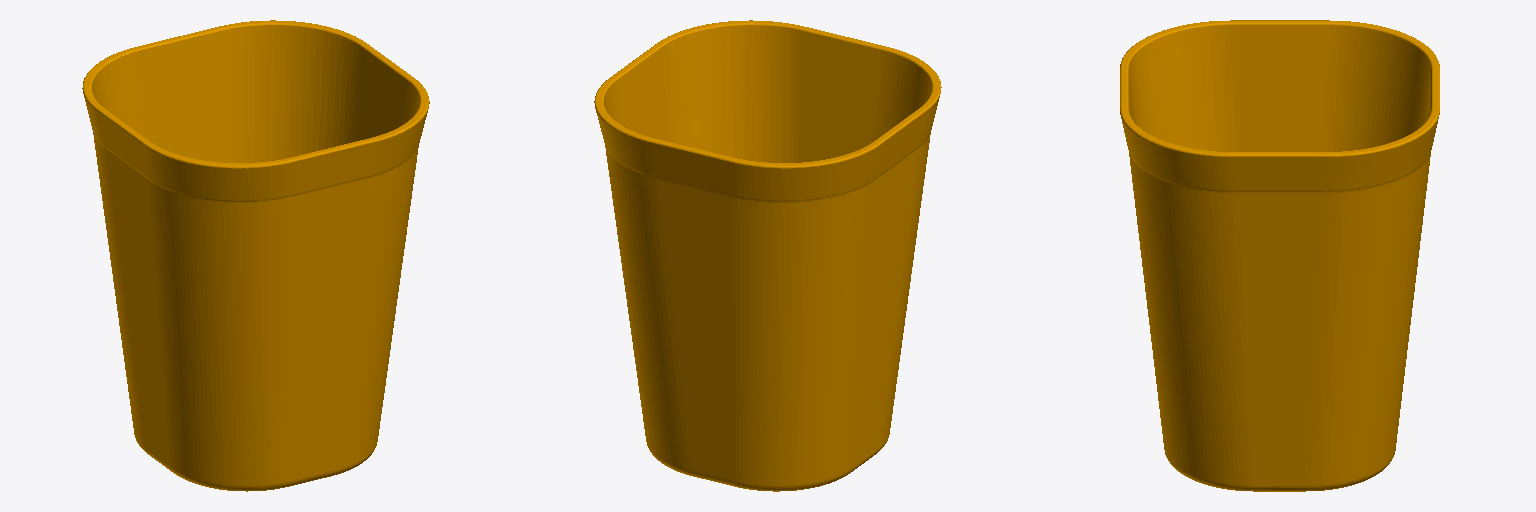
robot.urdf — cup:
<?xml version="1.0"?>
<robot name="cup">
  <link name="base_link">
    <visual>
      <origin xyz="0 0 0" rpy="0 0 0"/>
      <geometry>
        <mesh filename="package://so_arm101_description/meshes/cup/cup.stl" scale="0.001 0.001 0.001"/>
      </geometry>
    </visual>
    <collision>
      <origin xyz="0 0 0" rpy="0 0 0"/>
      <geometry>
        <mesh filename="package://so_arm101_description/meshes/cup/cup.stl" scale="0.001 0.001 0.001"/>
      </geometry>
    </collision>
    <inertial>
      <origin xyz="-7.06381e-07 6.25117e-07 0.0482337" rpy="0 0 0"/>
      <mass value="0.235049"/>
      <inertia ixx="0.000009" ixy="-0.000000" ixz="0.000000"
              iyy="0.000009" iyz="-0.000000" izz="0.000003"/>
    </inertial>
  </link>
</robot>

--- Render facts (derived) ---
3 views of the same robot in one strip: view 1: azimuth 30°, elevation 25°; view 2: azimuth 150°, elevation 25°; view 3: azimuth 270°, elevation 25° (orthographic).
Robot: cup — 1 links, 0 joints (none); root link base_link; default pose: every joint at zero.
Links seen in each view (by area): view 1: base_link; view 2: base_link; view 3: base_link.
Link boxes in pixels (x1,y1,x2,y2): base_link: (82,20,429,491); base_link: (594,20,941,491); base_link: (1120,20,1439,491).
Size in the robot's own frame: 0.078 by 0.078 by 0.0965 metres.
Meshes: 1 distinct files referenced, 1 mesh visuals loaded (1 binary STL).
